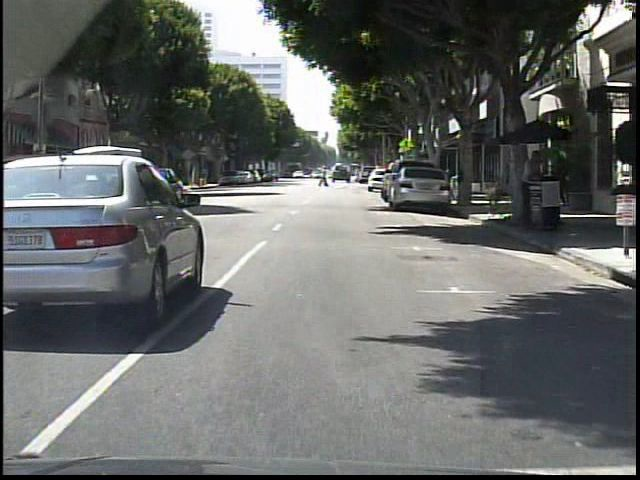person: (519, 148, 549, 228), (318, 168, 329, 188)
